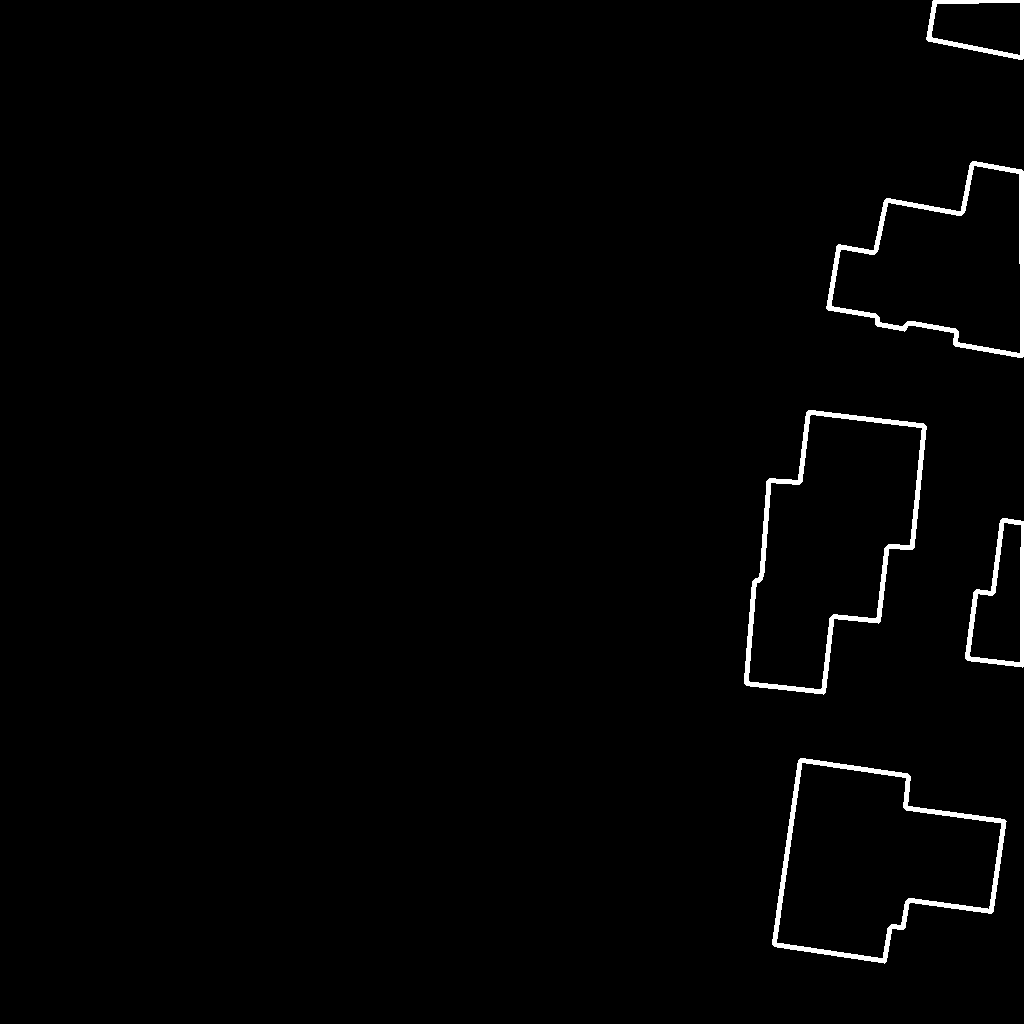building: (746, 412, 926, 693), (774, 760, 1005, 962), (828, 163, 1024, 357), (967, 520, 1024, 666), (928, 0, 1024, 59)
